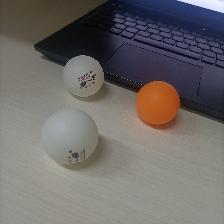WhiteBall: (40, 107, 98, 165), (60, 54, 105, 97)
YellowBall: (133, 80, 180, 126)
